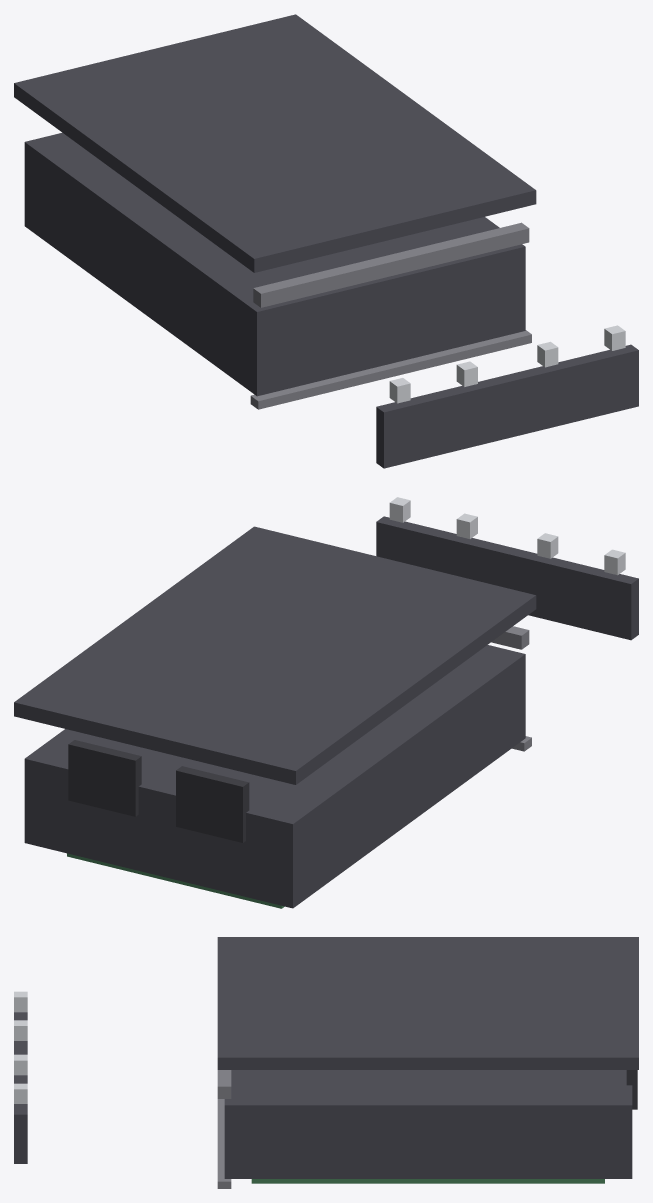
Rendered from hard_drive.gltf.
3 renders of one model, top to bottom at view 1: azimuth 30°, elevation 25°; view 2: azimuth 150°, elevation 25°; view 3: azimuth 270°, elevation 25°, orthographic. The views are drawn at different scales.
Visible parts, largest first — view 1: hard_drive; view 2: hard_drive; view 3: hard_drive.
Part boxes in pixels (<box>): hard_drive: <box>14,14,638,468</box>; hard_drive: <box>14,497,638,908</box>; hard_drive: <box>14,937,638,1188</box>.
Size of the model in its own units: 0.105 by 0.057 by 0.23.
